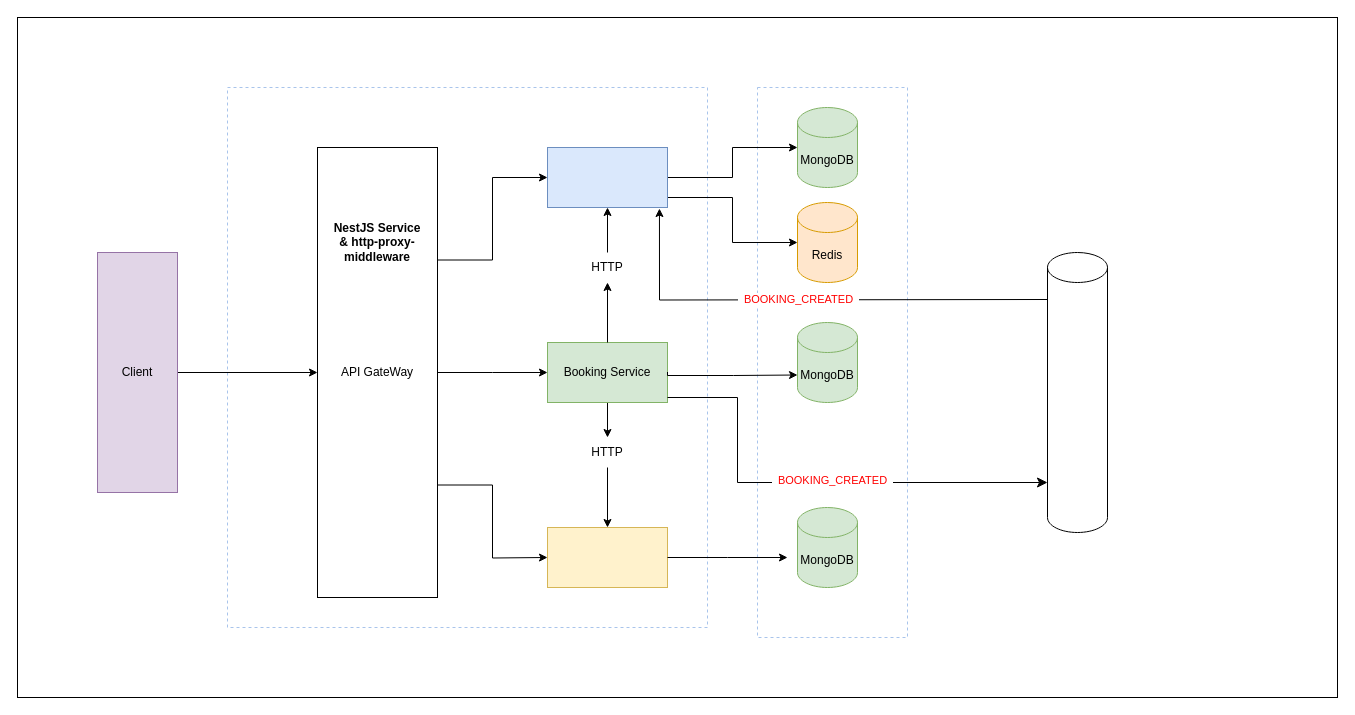
This 1355x715 diagram has some shape labels left out. Each missing label, with the centre of its shape:
Movie Service: (x=607, y=557)
RabbitMQ: (x=1077, y=392)
User Service: (x=607, y=177)
